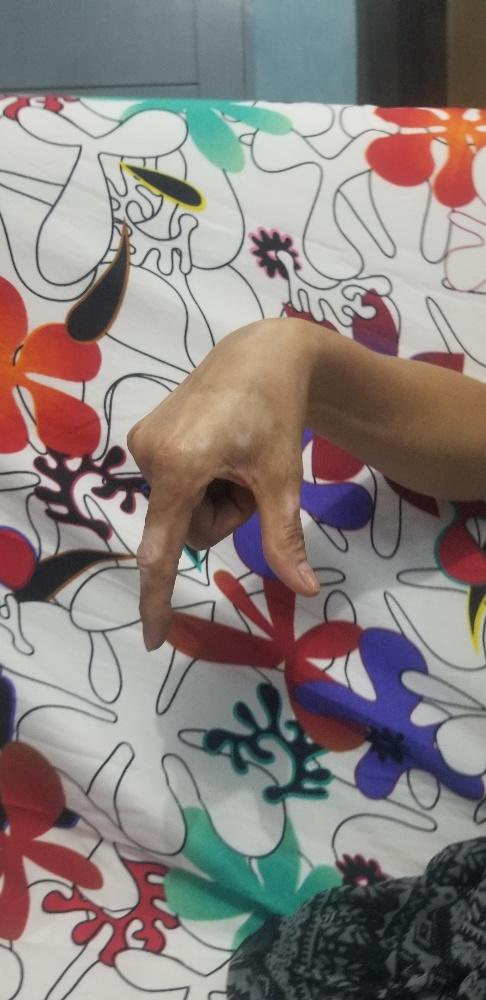q: (126, 310, 322, 652)
